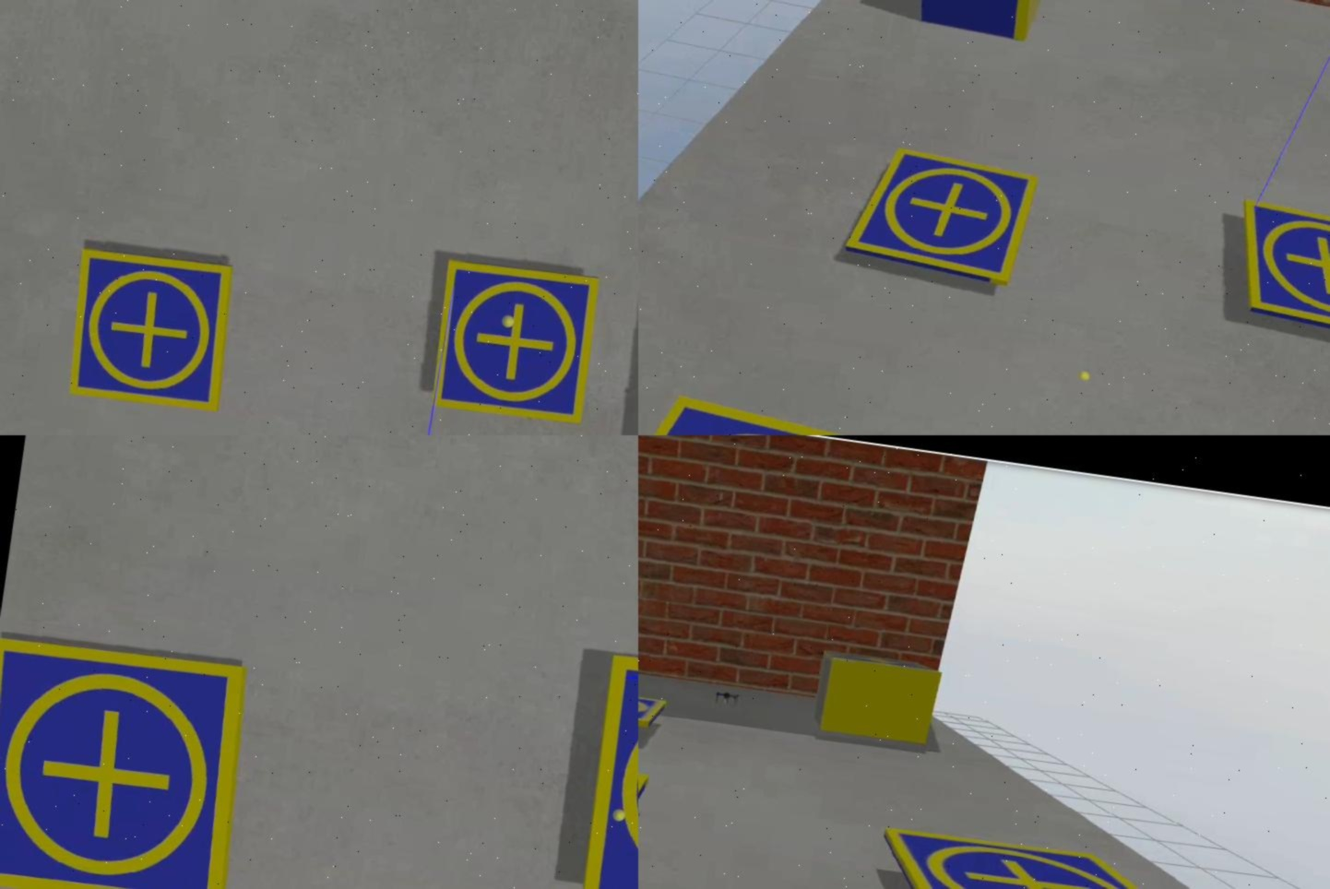small_base: (1, 631, 257, 889), (62, 245, 243, 419), (428, 256, 607, 430), (842, 142, 1038, 290), (868, 824, 1250, 889), (1229, 199, 1330, 354), (639, 680, 672, 738)
